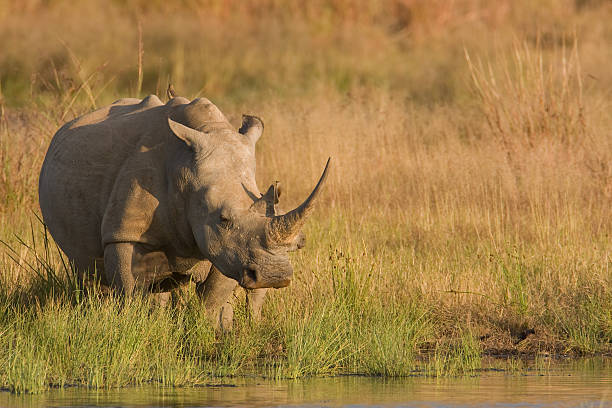rhino: (150, 106, 356, 308)
